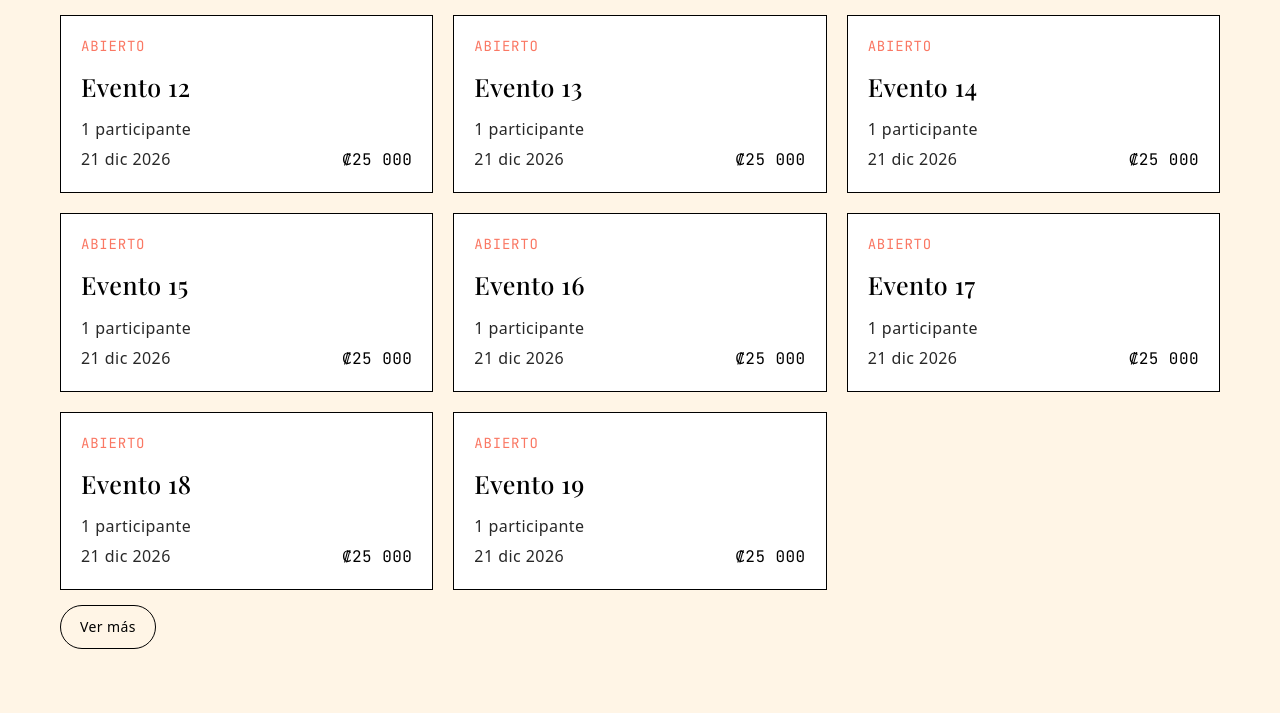
DashboardPage › loads more pages with the cursor
(page scrolled)
Click the button "Ver más". click: (108, 627)
box: [60,605,156,649]
(page scrolled)
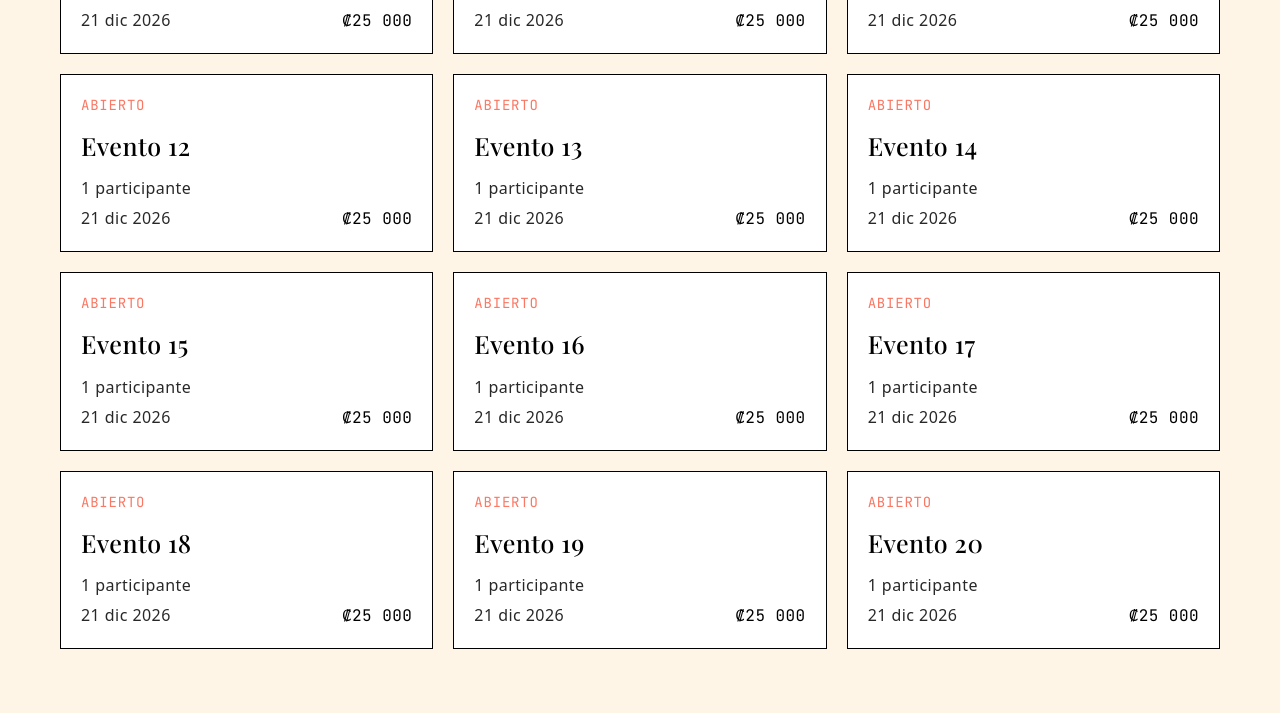
Expected: the heading "Evento 20" is shown, [868,526,983,558]
Expected: the button "Ver más" is gone
